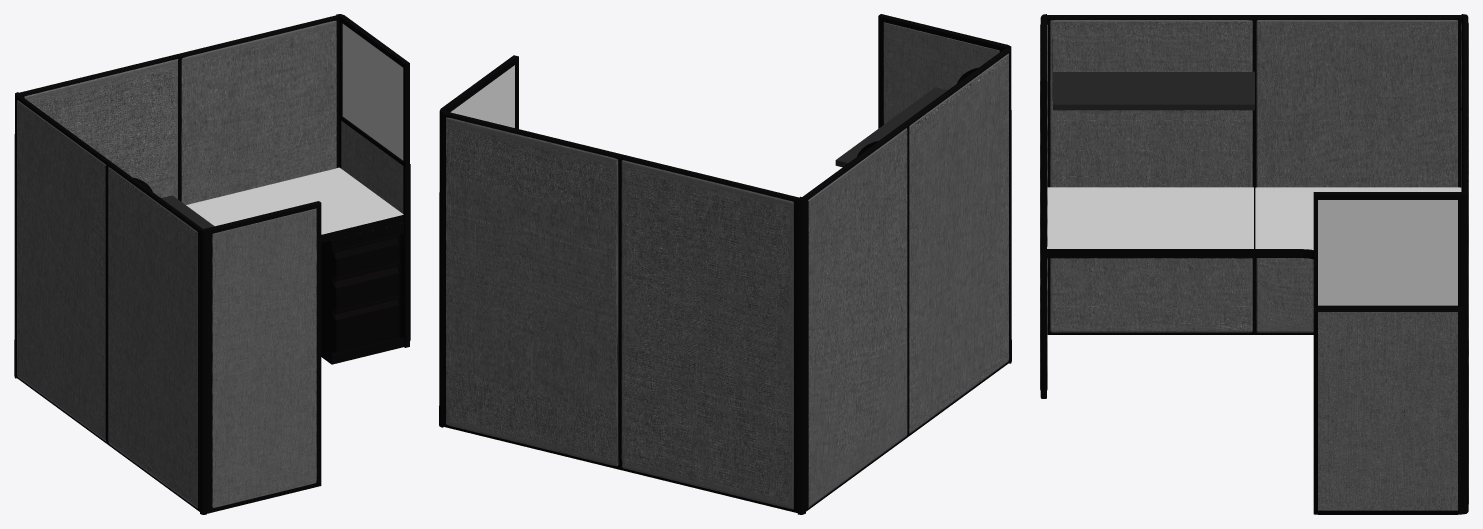
File: cubicle_v2.glb
The picture shows the model from 3 angles, left to right: view 1: azimuth 30°, elevation 25°; view 2: azimuth 150°, elevation 25°; view 3: azimuth 270°, elevation 25°; orthographic projection. The views are drawn at different scales.
Parts seen in each view (by area): view 1: Wall2, Wall3, CubicleWall, Wall4, Cabinet, TablePt3, Corner, Corner.001, Tabletop; view 2: Wall3, Wall2, CubicleWall, Wall4, Corner.001, Corner.002, Tabletop, Corner; view 3: Wall2, Wall4, CubicTables, Tabletop, TablePt2, CubicleWall, Corner.002, Wall3.
Boxes of the visible parts, left/top/right/bottom form: Wall2: left=16, top=95, right=202, bottom=511; Wall3: left=19, top=15, right=338, bottom=204; CubicleWall: left=205, top=201, right=321, bottom=513; Wall4: left=339, top=15, right=410, bottom=347; Cabinet: left=321, top=223, right=403, bottom=364; TablePt3: left=186, top=167, right=403, bottom=242; Corner: left=200, top=229, right=207, bottom=514; Corner.001: left=14, top=92, right=20, bottom=378; Tabletop: left=161, top=195, right=214, bottom=228; Wall3: left=443, top=111, right=798, bottom=512; Wall2: left=802, top=47, right=1010, bottom=511; CubicleWall: left=878, top=14, right=1007, bottom=128; Wall4: left=440, top=55, right=518, bottom=128; Corner.001: left=797, top=196, right=805, bottom=514; Corner.002: left=439, top=109, right=446, bottom=427; Tabletop: left=835, top=87, right=947, bottom=167; Corner: left=1005, top=45, right=1011, bottom=363; Wall2: left=1047, top=15, right=1461, bottom=334; Wall4: left=1313, top=192, right=1462, bottom=514; CubicTables: left=1047, top=187, right=1254, bottom=258; Tabletop: left=1053, top=71, right=1254, bottom=110; TablePt2: left=1254, top=187, right=1461, bottom=259; CubicleWall: left=1040, top=16, right=1047, bottom=398; Corner.002: left=1462, top=192, right=1468, bottom=514; Wall3: left=1461, top=17, right=1468, bottom=503.
Size of the model in its own units: 2 by 1.64 by 1.98.
Materials: 8 (1 with a texture image).
